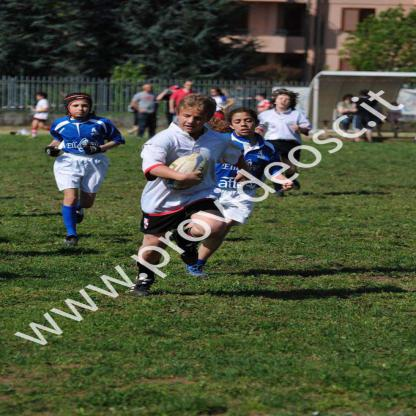Ball: (162, 153, 208, 191)
